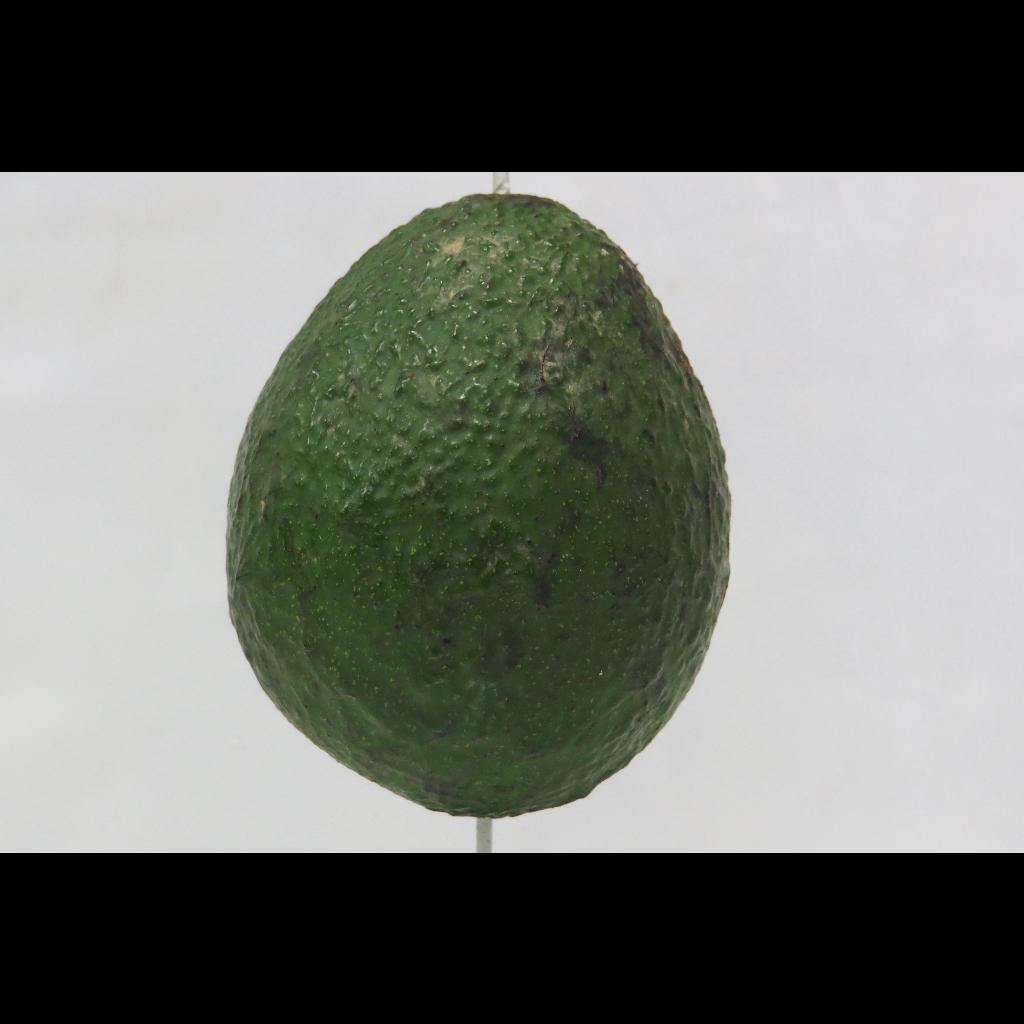Healthy: (186, 186, 750, 834)
